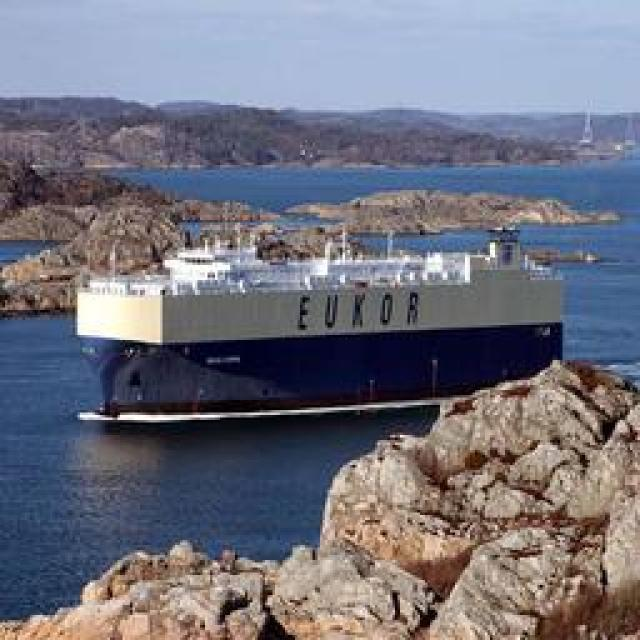ship2: (76, 226, 567, 425)
